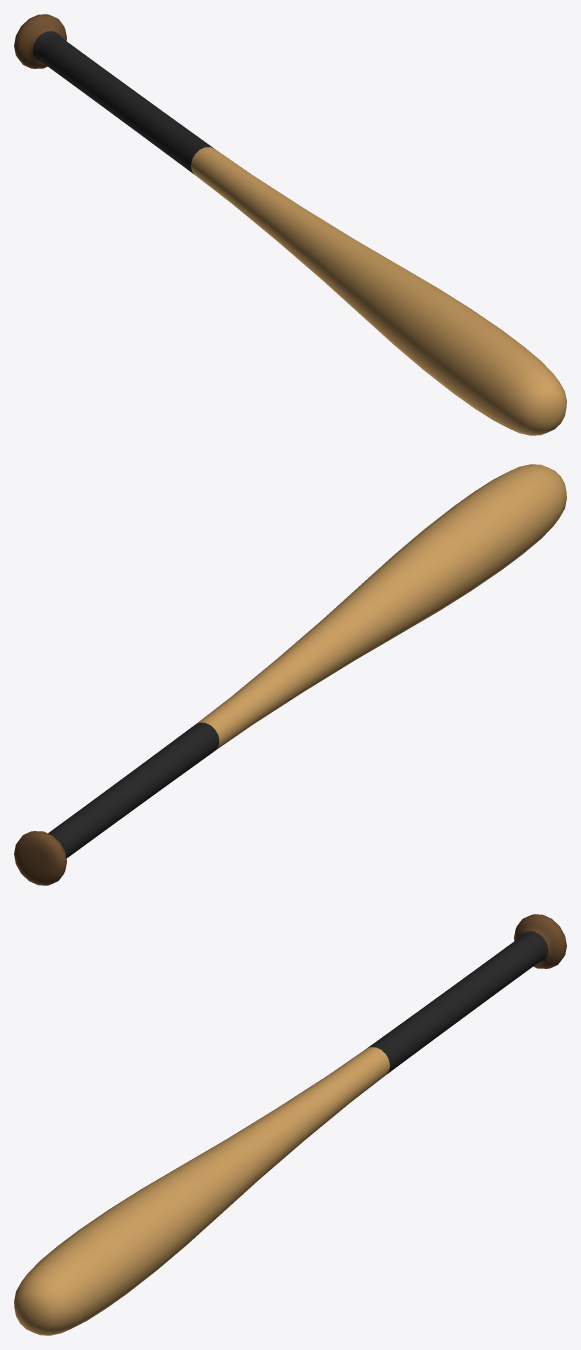
Rendered from bat.glb.
3 views of the same model, one above another, from view 1: azimuth 30°, elevation 25°; view 2: azimuth 150°, elevation 25°; view 3: azimuth 330°, elevation 25° (orthographic).
Parts seen in each view (by area): view 1: bat; view 2: bat; view 3: bat.
Part boxes in pixels (x1,y1,x2,y2): bat: (14, 14, 566, 435); bat: (14, 464, 566, 885); bat: (14, 914, 566, 1335).
Bounding box in the file's own units: 0.066 × 0.066 × 0.85.
